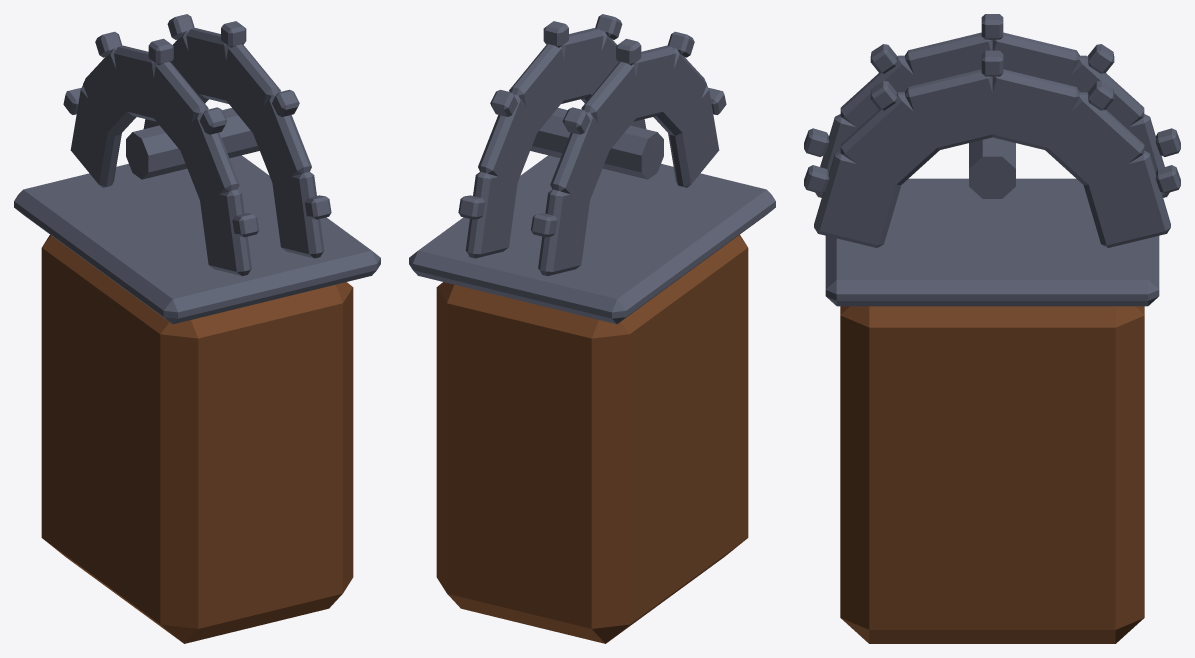
Rendered from leva_base.glb.
The picture shows the model from 3 angles, left to right: view 1: azimuth 30°, elevation 25°; view 2: azimuth 150°, elevation 25°; view 3: azimuth 270°, elevation 25°; orthographic projection. The views are drawn at different scales.
Parts seen in each view (by area): view 1: leva_base2; view 2: leva_base2; view 3: leva_base2.
Boxes of the visible parts, <box> form: leva_base2: <box>14,14,380,643</box>; leva_base2: <box>409,14,775,643</box>; leva_base2: <box>804,14,1180,643</box>.
Size of the model in its own units: 0.36 by 0.87 by 0.5198.
